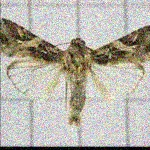Spodoptera litura: (1, 16, 148, 126)
